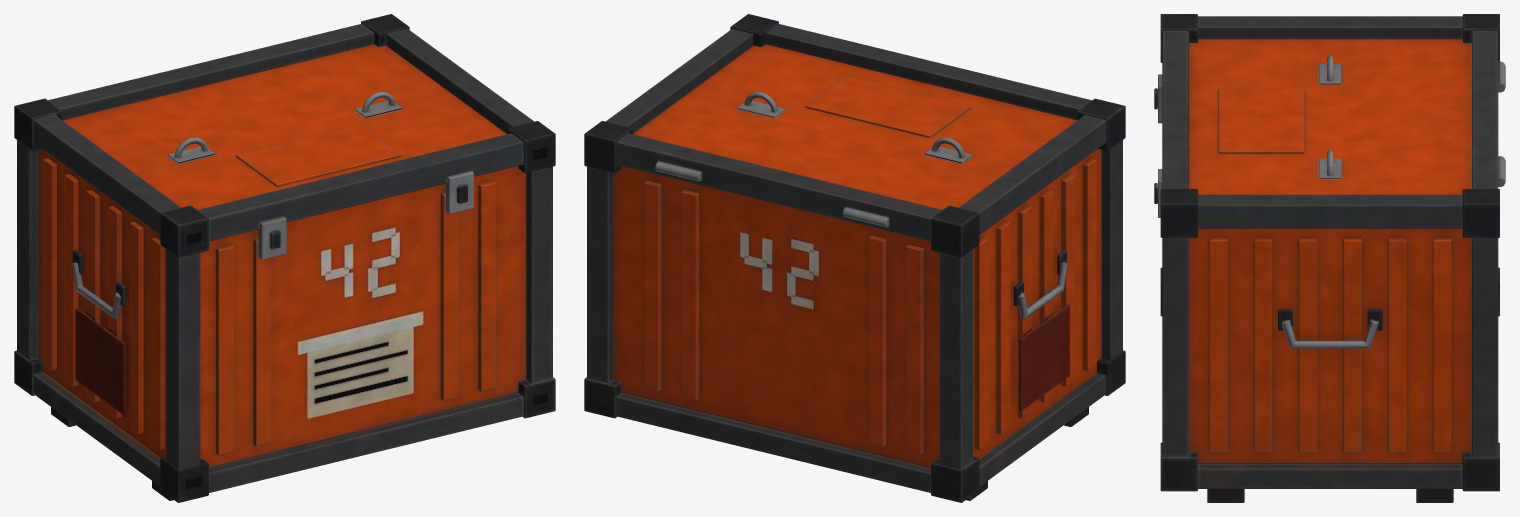
File: crate.glb
3 views of the same model, side by side, from view 1: azimuth 30°, elevation 25°; view 2: azimuth 150°, elevation 25°; view 3: azimuth 270°, elevation 25° (orthographic). The views are drawn at different scales.
Parts seen in each view (by area): view 1: crate; view 2: crate; view 3: crate.
Part boxes in pixels (<box>): crate: <box>14,14,555,502</box>; crate: <box>584,14,1125,502</box>; crate: <box>1154,14,1505,502</box>.
Size of the model in its own units: 1.22 by 0.9189 by 0.942.
1 material, 1 textured.
